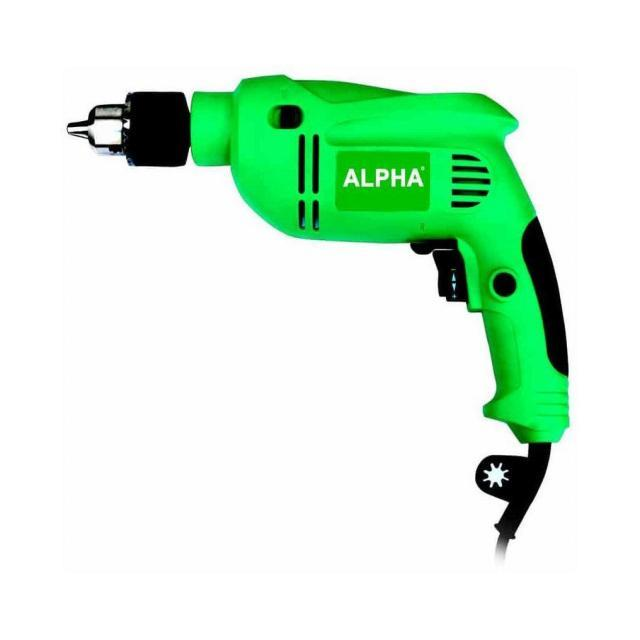drill: (65, 73, 571, 540)
